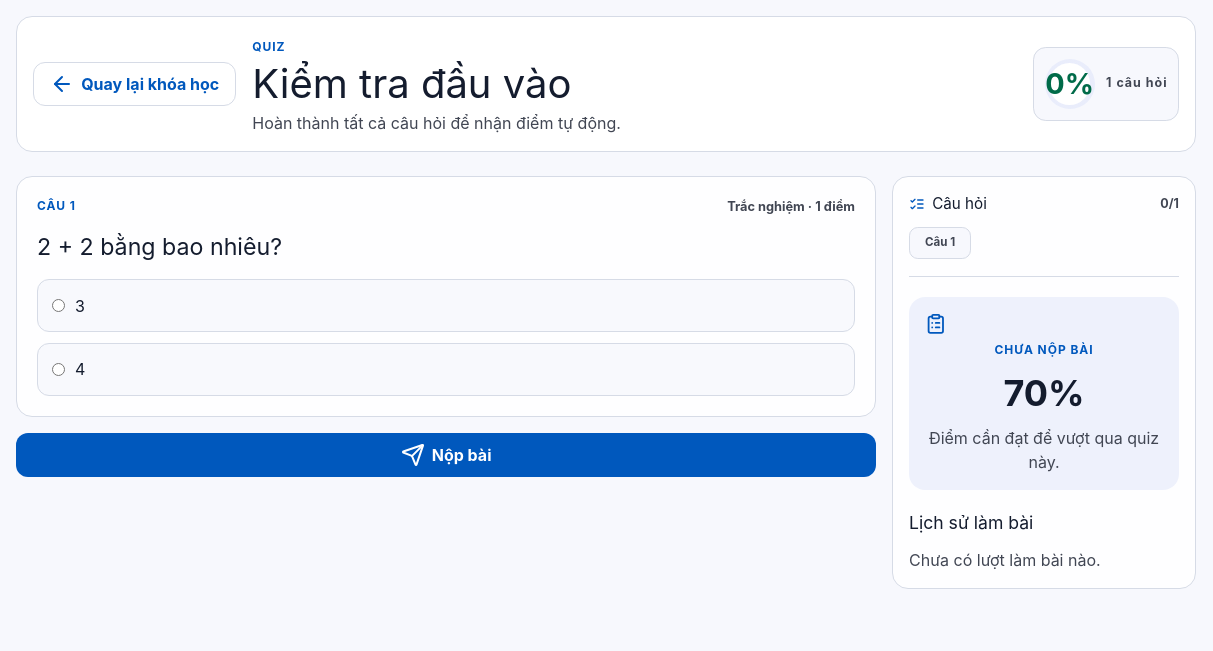
Scenario: QuizAttemptPage › locks submitted answers, shows correctness, and resets for a new attempt
Expected: the heading "Kiểm tra đầu vào" is shown, top-left (252, 59), bottom-right (572, 108)
Click the radio button labelled "4".
click(58, 369)  # box top-left (52, 363), bottom-right (65, 376)
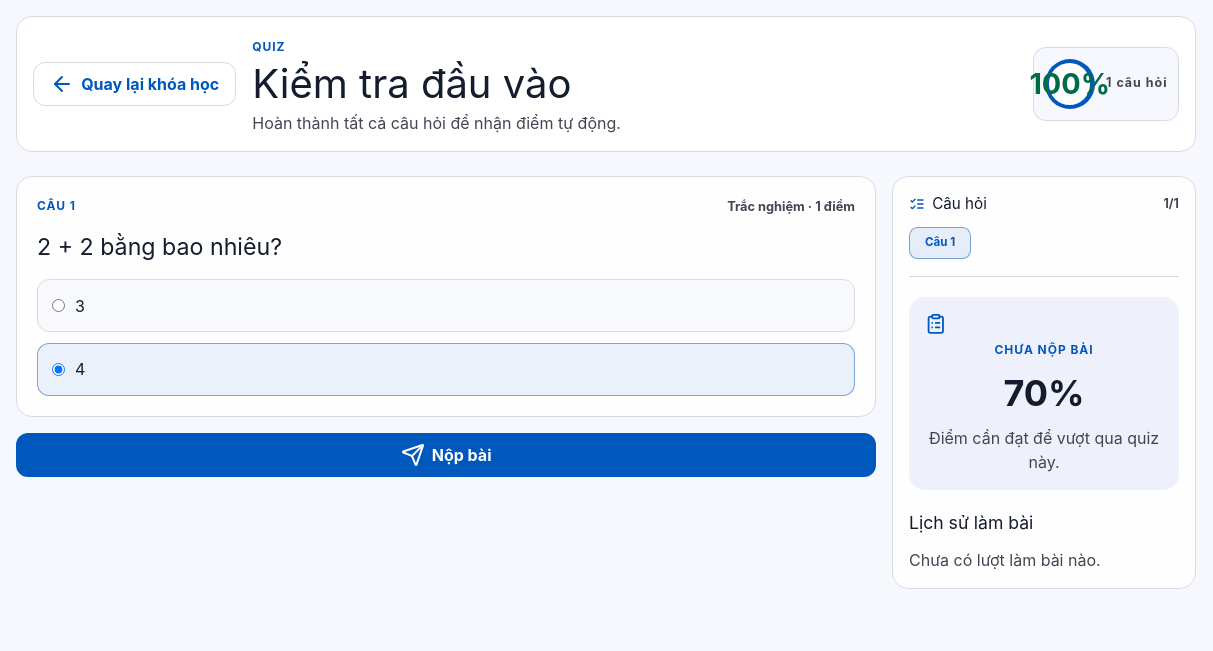
Click the button "Nộp bài".
click(446, 455)  # box top-left (16, 433), bottom-right (876, 477)
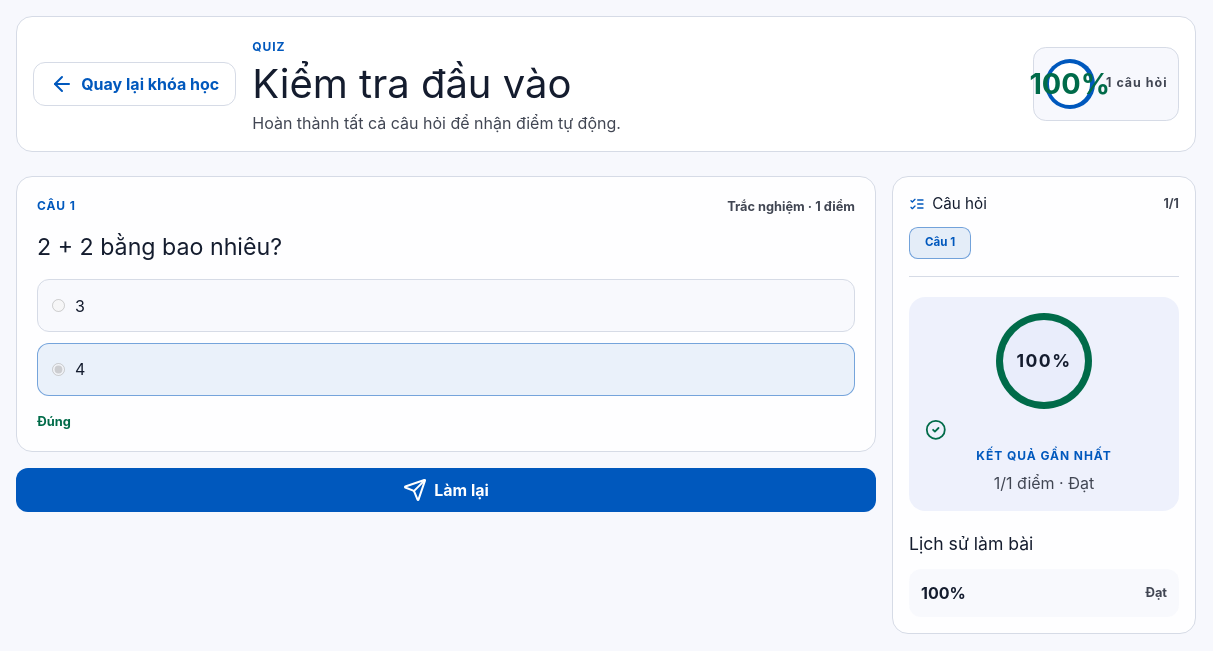
Now the button "Làm lại" is shown
Now the radio button labelled "4" is disabled, box top-left (52, 363), bottom-right (65, 376)
Now the text "Đúng" is shown, box top-left (37, 414), bottom-right (71, 429)
Click the button "Làm lại".
click(446, 490)  # box top-left (16, 468), bottom-right (876, 512)
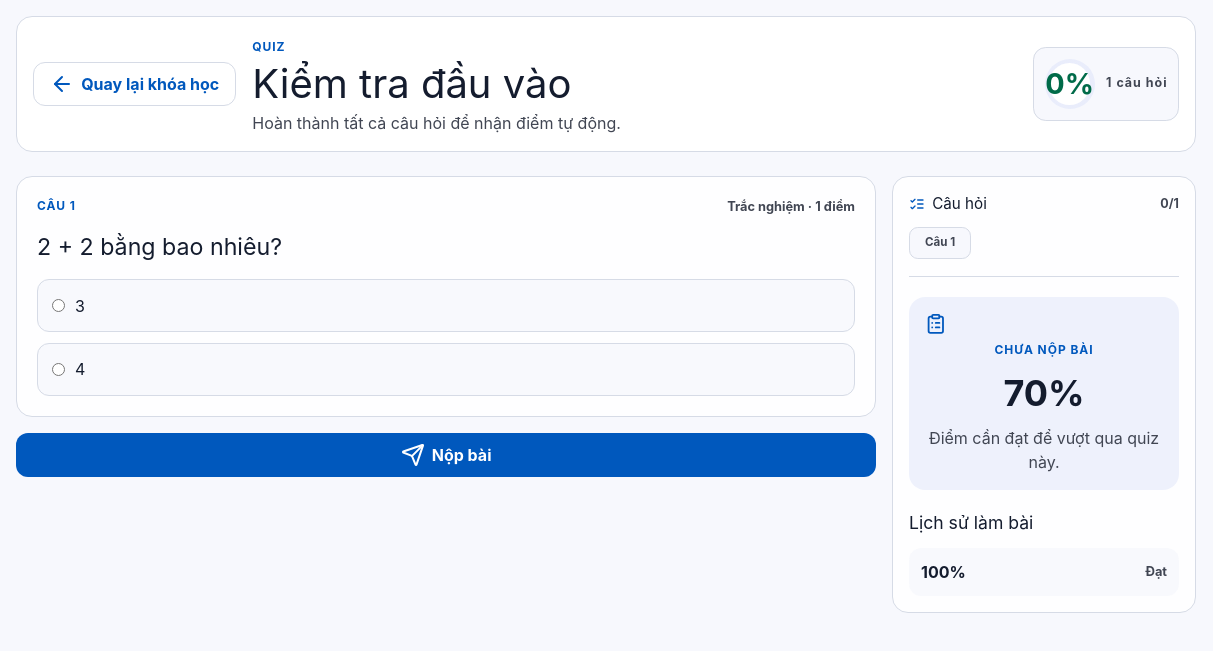
Now the radio button labelled "4" is not checked, box top-left (52, 363), bottom-right (65, 376)
Now the button "Nộp bài" is shown, box top-left (16, 433), bottom-right (876, 477)
